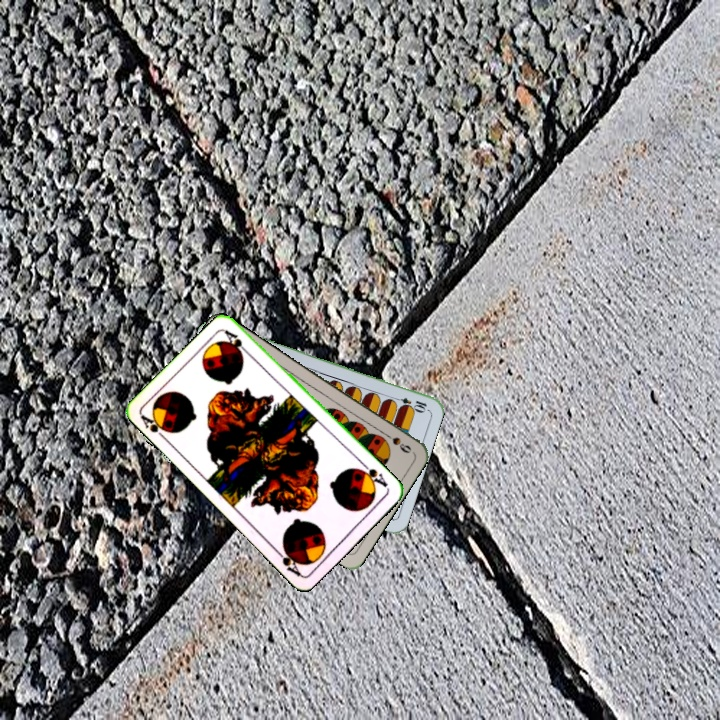E10: (389, 393, 429, 413)
S9: (378, 428, 414, 456)
SA: (137, 409, 175, 443), (354, 459, 391, 490)
